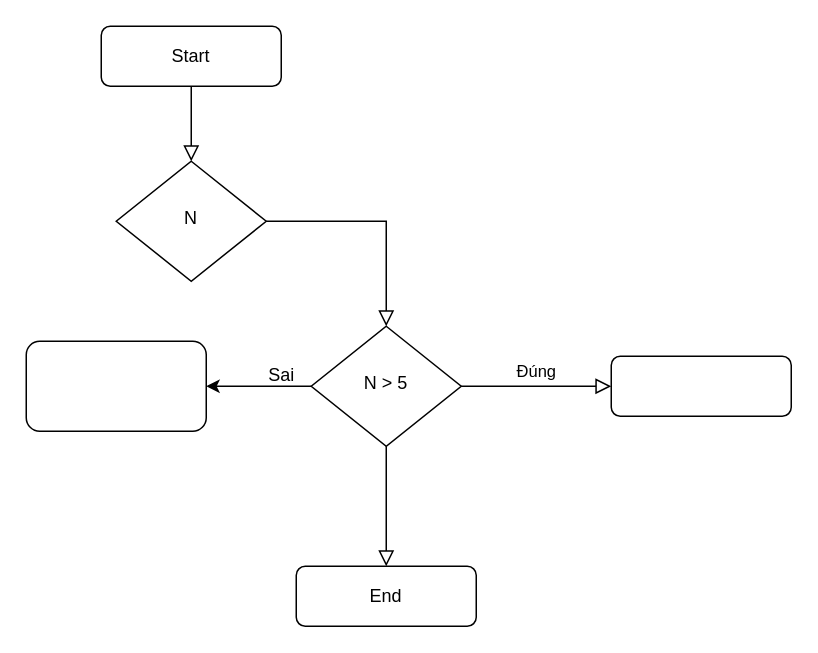
This 818x653 diagram has some shape labels left out. Each missing label, with the centre of its shape:
không đạt: (115,385)
đạt: (700,385)
